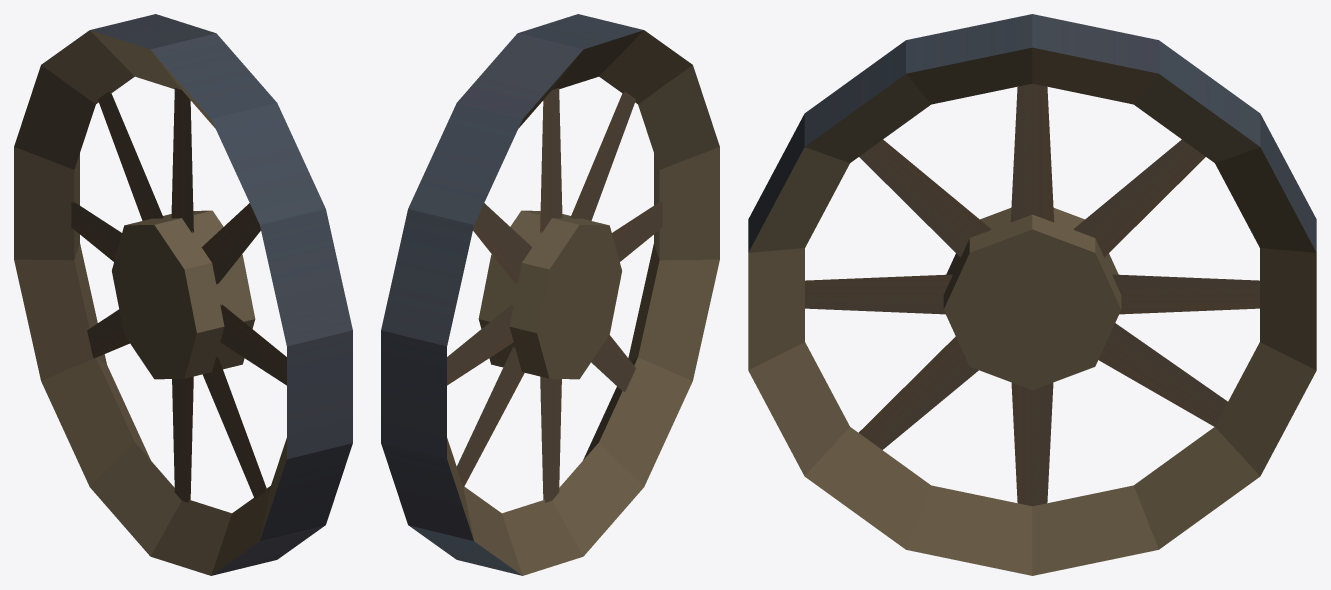
File: Cart_Wheel.fbx
The picture shows the model from 3 angles, left to right: view 1: azimuth 30°, elevation 25°; view 2: azimuth 150°, elevation 25°; view 3: azimuth 270°, elevation 25°; orthographic projection. The views are drawn at different scales.
Parts seen in each view (by area): view 1: polySurface8962; view 2: polySurface8962; view 3: polySurface8962.
Boxes of the visible parts, x1,y1,x2,y2 form: polySurface8962: (14, 14, 352, 575); polySurface8962: (381, 14, 719, 575); polySurface8962: (748, 14, 1316, 575).
Bounding box in the file's own units: 19.5 × 143 × 139.
